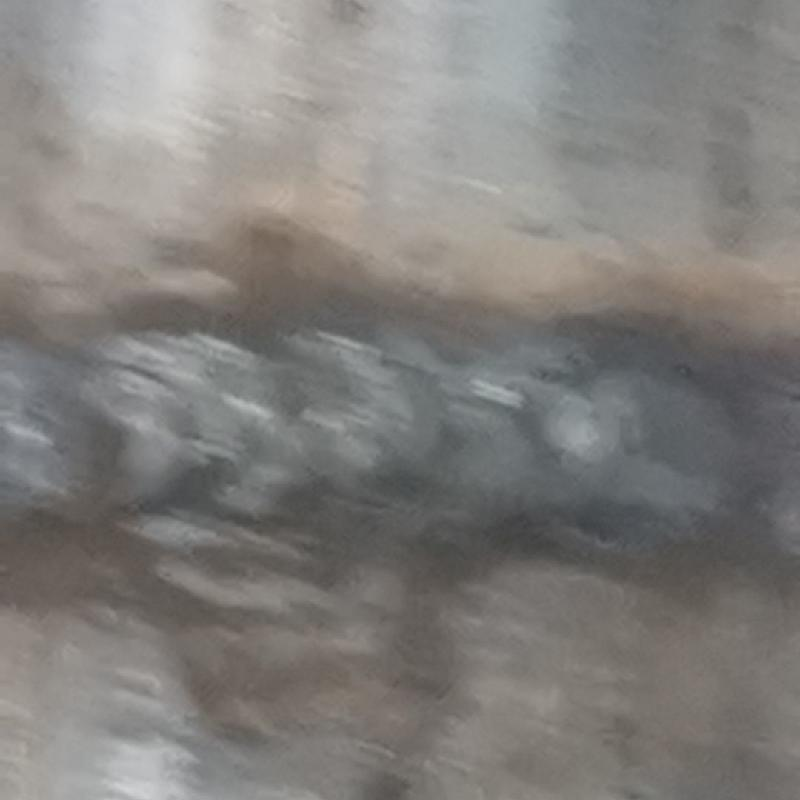good: (3, 305, 799, 564)
